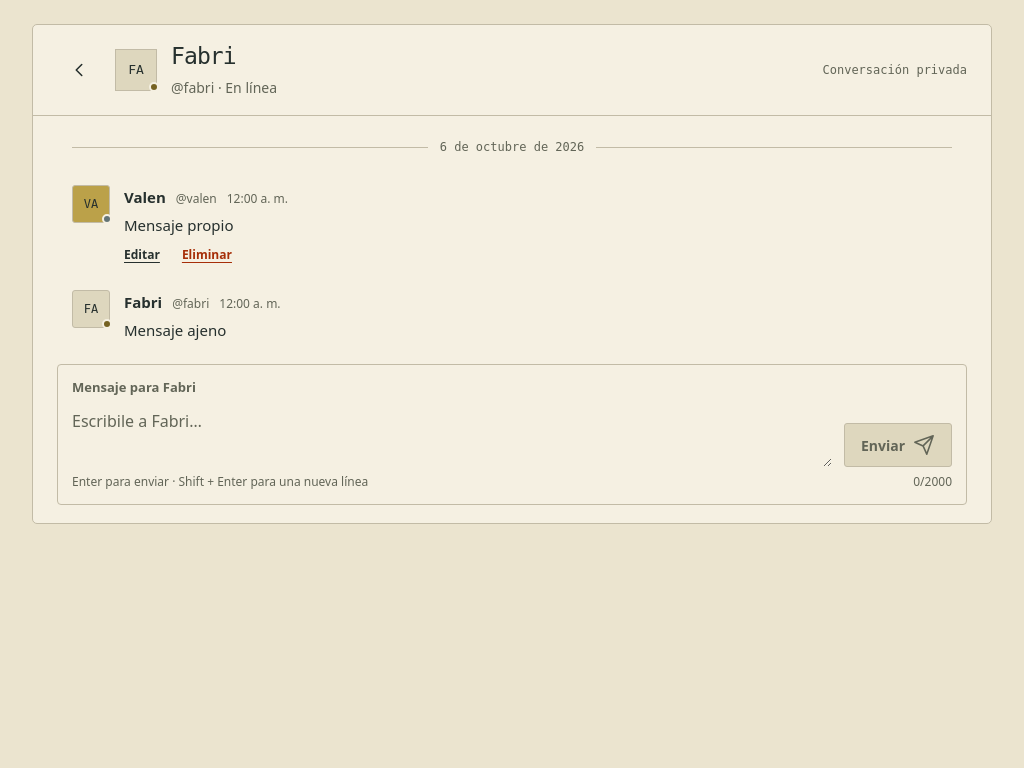
Test case: conserva el borrador si el envío falla
Type "Mi texto pendiente" into the text box labelled "Mensaje para Fabri".
click(452, 435); type("Mi texto pendiente")  # box [72,402,832,467]
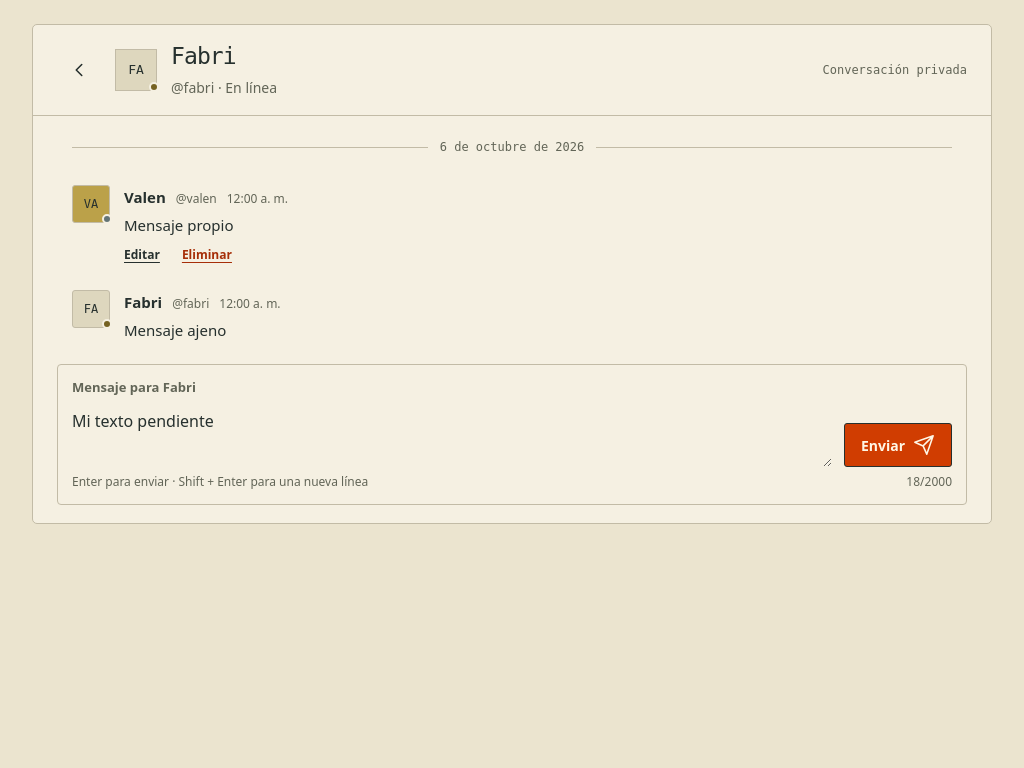
Click the button with aria-label "Enviar mensaje".
click(898, 445)  # box [844,423,952,467]
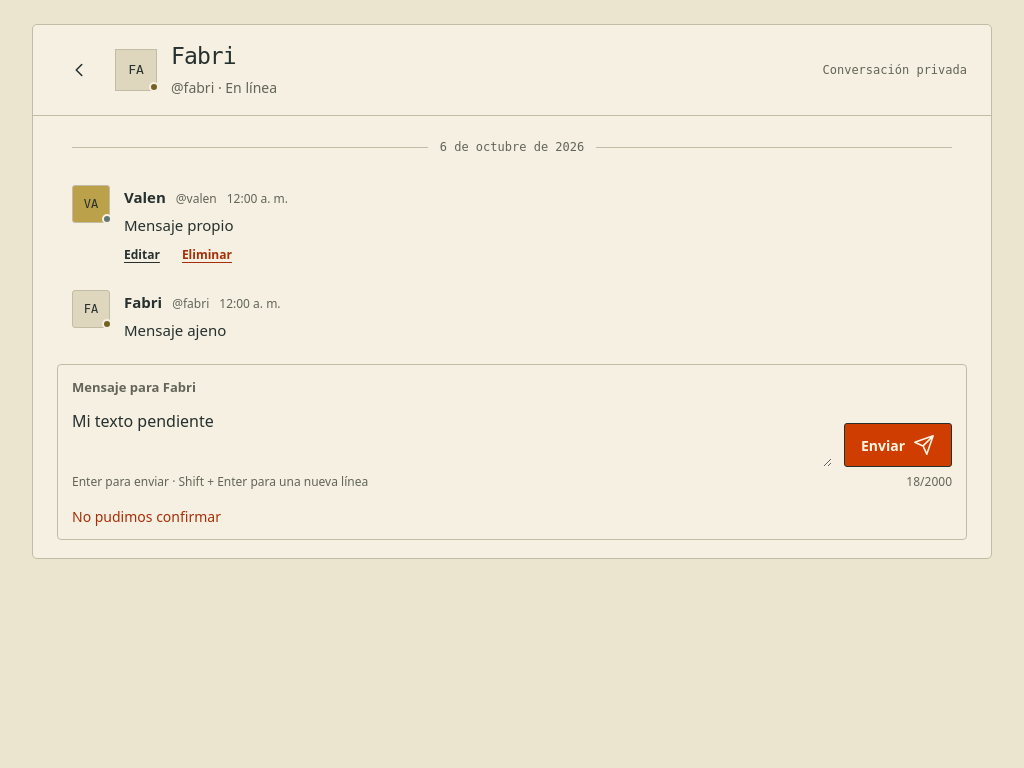
Check: the message "No pudimos confirmar" is shown, box [72,507,221,526]
